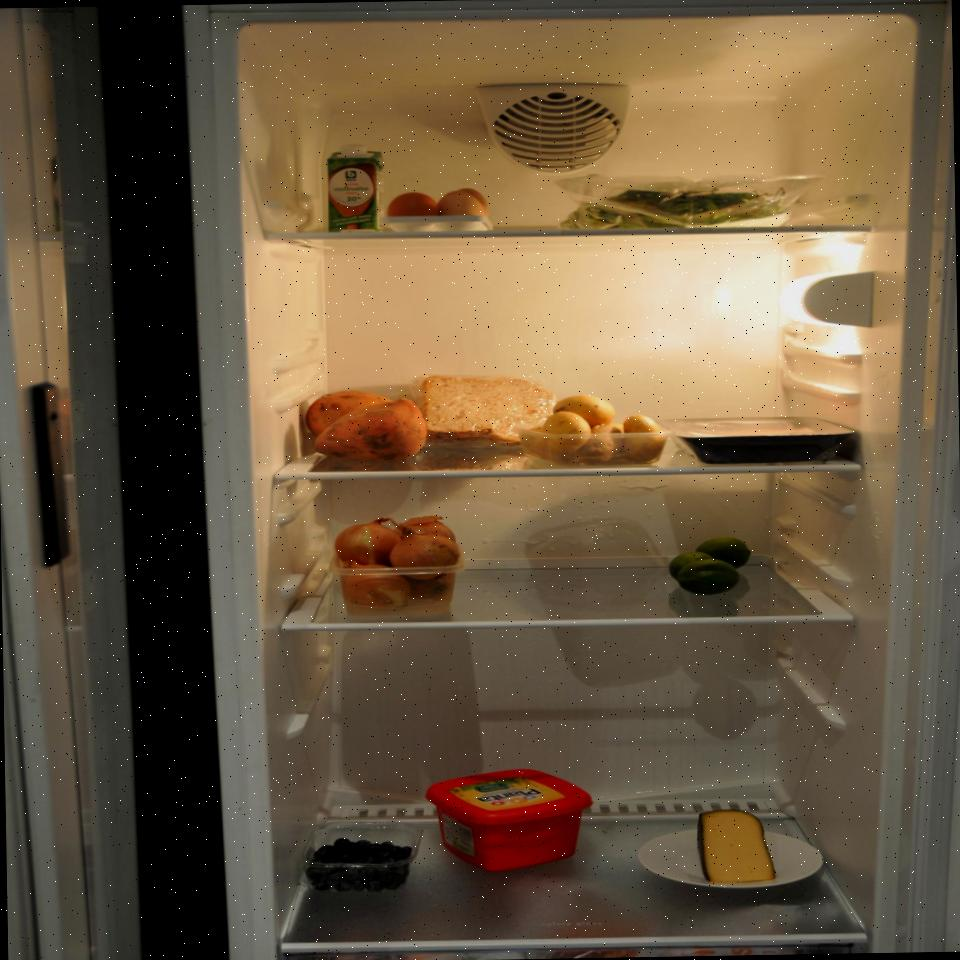Carne pollo: (661, 413, 859, 461)
Huevos: (382, 184, 492, 232)
Mantequilla: (424, 764, 596, 878)
Queso: (694, 807, 781, 885)
